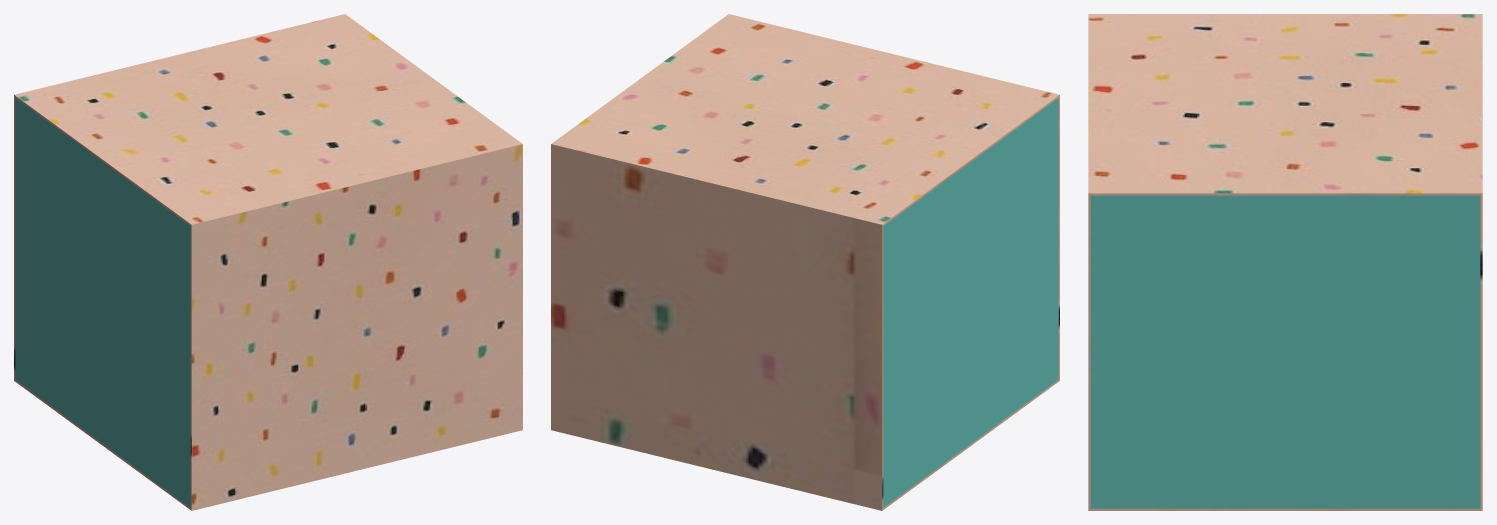
The picture shows the model from 3 angles, left to right: view 1: azimuth 30°, elevation 25°; view 2: azimuth 150°, elevation 25°; view 3: azimuth 270°, elevation 25°; orthographic projection. The views are drawn at different scales.
Visible parts, largest first — view 1: MIN#5.001, MAXI_EDXTRA#1.001; view 2: MIN#5.001, MAXI_EDXTRA#1.001; view 3: MAXI_EDXTRA#1.001, MIN#5.001.
Boxes of the visible parts, x1,y1,x2,y2 form: MIN#5.001: (14,14,522,510); MAXI_EDXTRA#1.001: (15,98,190,507); MIN#5.001: (551,14,1059,510); MAXI_EDXTRA#1.001: (883,98,1058,507); MAXI_EDXTRA#1.001: (1090,195,1480,508); MIN#5.001: (1088,14,1482,510).
Size of the model in its own units: 0.327 by 0.27 by 0.304.
2 materials, 1 textured.
